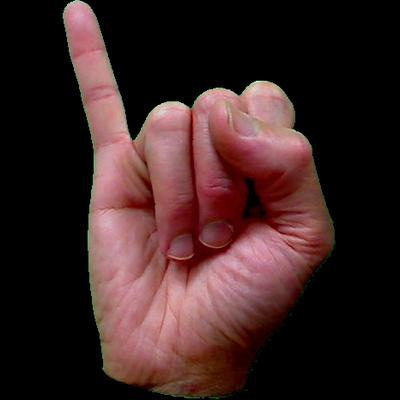i: (3, 3, 400, 393)
